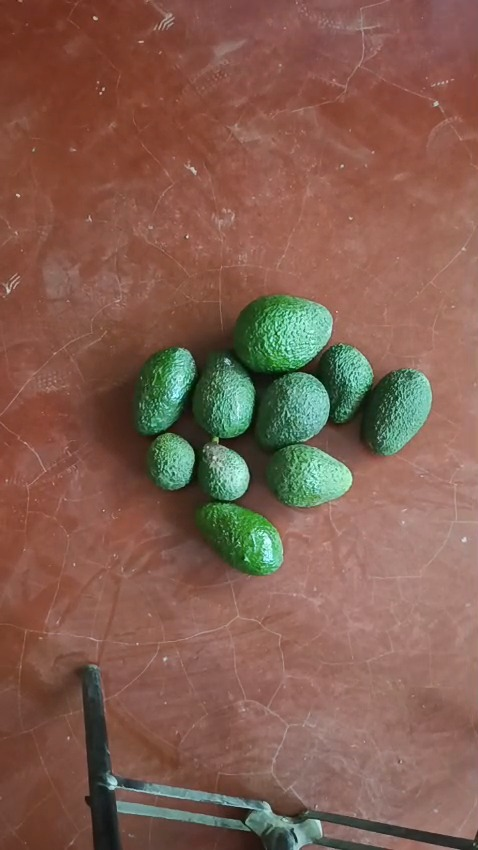Primera: (233, 294, 332, 373)
Segunda: (194, 501, 282, 574), (360, 367, 431, 454), (254, 371, 330, 450), (192, 351, 257, 439), (133, 346, 197, 435), (265, 443, 352, 507)
Tercera: (315, 342, 374, 424), (196, 438, 251, 501), (146, 431, 196, 491)
